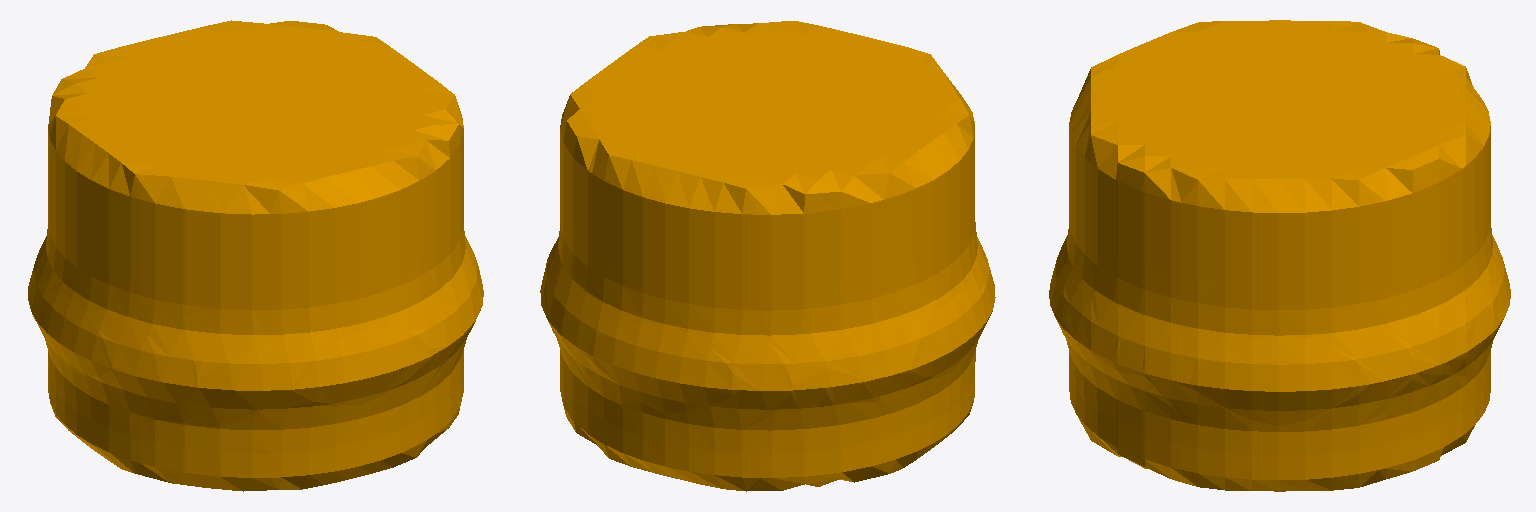
robot.urdf — cylinder_../../meshes/cylinders/cylinder_79.stl:
<?xml version="1.0" encoding="utf-8"?>  <robot name="cylinder_../../meshes/cylinders/cylinder_79.stl">   <link name="cylinder_../../meshes/cylinders/cylinder_79.stl">     <visual>       <geometry>         <mesh filename="../meshes/cylinders/cylinder_79.stl" scale="1 1 1"/>       </geometry>     </visual>     <collision>       <geometry>         <mesh filename="../meshes/cylinders/cylinder_79.stl" scale="1 1 1"/>       </geometry>     </collision>     <inertial>        <origin         xyz="0 0 0"         rpy="0 0 0" />       <mass value="0.3188592191983041"/>       <origin rpy="0 0 0" xyz="0 0 0"/>       <inertia ixx="0.000231254753448036" ixy="-1.5709291591415293e-09" ixz="-2.3279107970050238e-09" iyy="0.0002312579901942455" iyz="-2.94087724298046e-10" izz="0.00025288446151661175"/>     </inertial>   </link>  </robot>

--- Render facts (derived) ---
Views: 3 orthographic renders of the robot side by side, from view 1: azimuth 30°, elevation 25°; view 2: azimuth 150°, elevation 25°; view 3: azimuth 270°, elevation 25°.
Model cylinder_../../meshes/cylinders/cylinder_79.stl with 1 links and 0 joints (none), rooted at cylinder_../../meshes/cylinders/cylinder_79.stl, posed every joint at zero.
Links seen in each view (by area): view 1: cylinder_../../meshes/cylinders/cylinder_79.stl; view 2: cylinder_../../meshes/cylinders/cylinder_79.stl; view 3: cylinder_../../meshes/cylinders/cylinder_79.stl.
Boxes of the visible links, x1,y1,x2,y2 form: cylinder_../../meshes/cylinders/cylinder_79.stl: (28, 20, 483, 491); cylinder_../../meshes/cylinders/cylinder_79.stl: (540, 21, 995, 491); cylinder_../../meshes/cylinders/cylinder_79.stl: (1049, 20, 1510, 491).
Bounding box of the posed robot: 0.0862 × 0.0862 × 0.0643 m (x, y, z).
1 mesh visuals loaded from 1 distinct referenced files (1 binary STL).